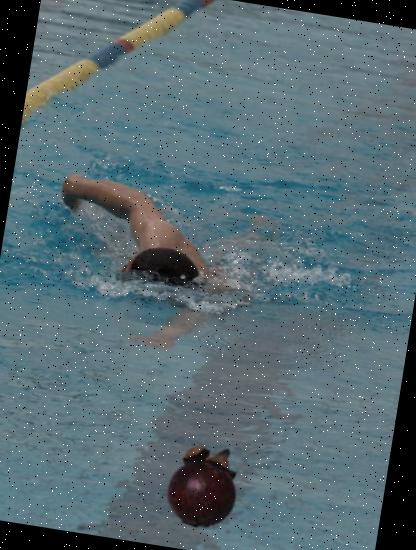Mangostan: (156, 436, 254, 534)
